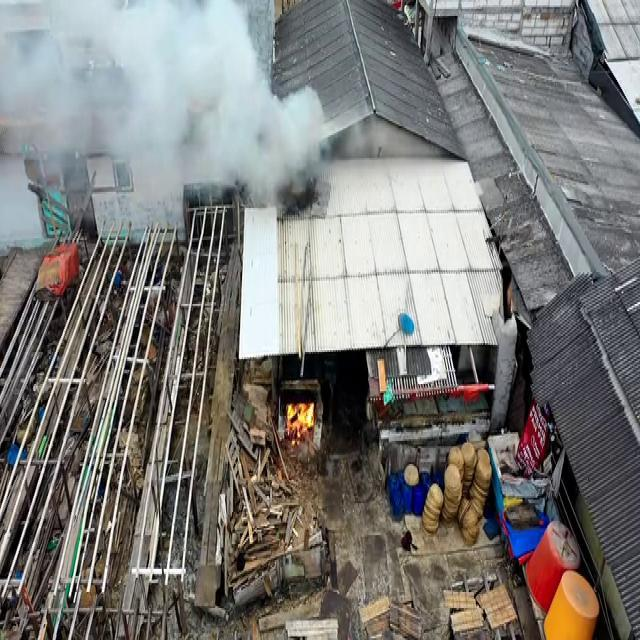smoke: (6, 6, 120, 147), (198, 68, 272, 194), (95, 3, 180, 106), (152, 5, 254, 90), (272, 90, 328, 214), (110, 114, 192, 178)
